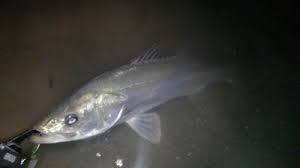suzuki: (26, 45, 253, 148)
